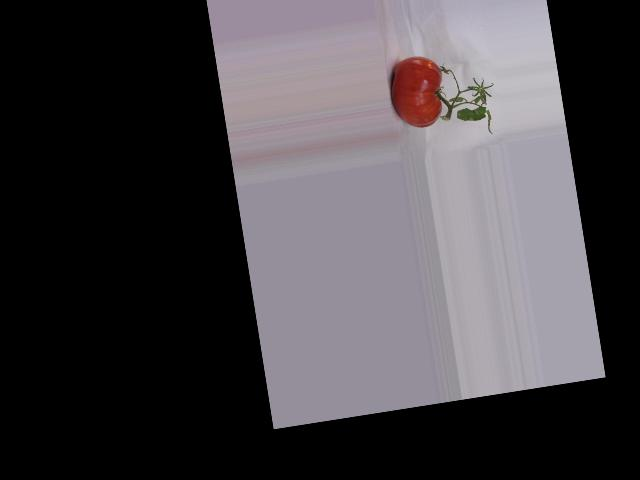tomato: (385, 52, 449, 131)
